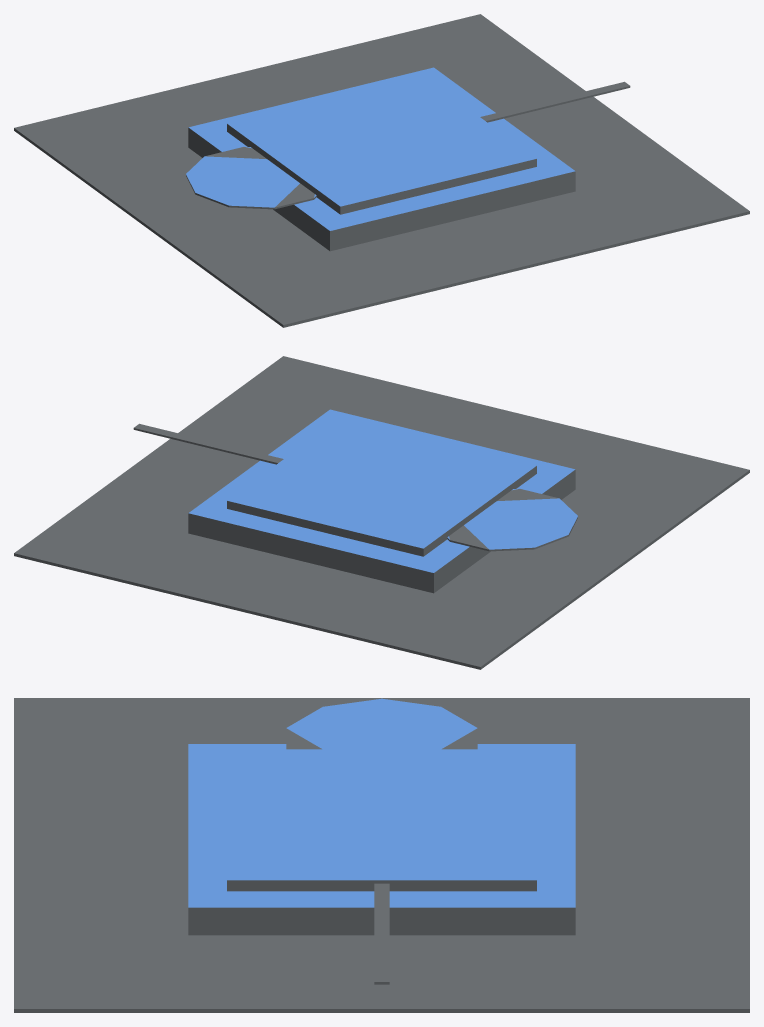
Rendered from network_unmanned_artillery_rubble.glb.
3 renders of one model, top to bottom at view 1: azimuth 30°, elevation 25°; view 2: azimuth 150°, elevation 25°; view 3: azimuth 270°, elevation 25°, orthographic. The views are drawn at different scales.
Visible parts, largest first — view 1: hull, turret, dish, barrel; view 2: hull, turret, dish, barrel; view 3: hull, turret, dish, barrel.
Part boxes in pixels (x1,y1,x2,y2): hull: [14, 14, 749, 327]; turret: [227, 75, 536, 214]; dish: [186, 146, 316, 209]; barrel: [480, 81, 630, 122]; hull: [14, 356, 749, 669]; turret: [227, 417, 536, 556]; dish: [447, 488, 577, 551]; barrel: [133, 423, 283, 464]; hull: [14, 698, 749, 1012]; turret: [227, 749, 536, 891]; dish: [286, 698, 477, 749]; barrel: [374, 883, 389, 984].
Bounding box in the file's own units: 7.8 × 0.486 × 7.6.
